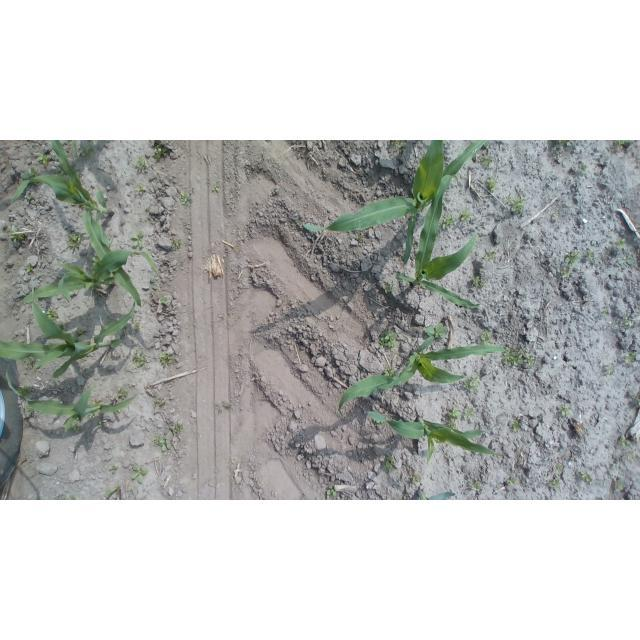Maize: (10, 140, 143, 308), (290, 140, 490, 232), (339, 335, 508, 418), (0, 285, 136, 380), (396, 173, 480, 309), (1, 364, 136, 437), (21, 249, 157, 305), (366, 411, 504, 466), (417, 487, 457, 500), (103, 486, 123, 500)
Weeds: (503, 348, 536, 368), (152, 431, 172, 453), (424, 324, 447, 341), (504, 196, 527, 213), (378, 331, 400, 348), (447, 406, 462, 430), (131, 464, 149, 484), (464, 374, 481, 393), (8, 227, 25, 245), (132, 349, 148, 368), (67, 232, 84, 249), (79, 144, 97, 160), (565, 250, 582, 266), (129, 229, 144, 247), (65, 418, 82, 433), (441, 213, 456, 229), (20, 166, 38, 179), (17, 385, 32, 400), (383, 456, 397, 472), (161, 352, 176, 366), (464, 404, 477, 420), (152, 145, 166, 159), (487, 179, 501, 193), (44, 308, 58, 321), (580, 471, 593, 485), (481, 331, 494, 345), (472, 275, 487, 287), (326, 484, 337, 500), (180, 191, 192, 205), (136, 155, 148, 169), (38, 153, 50, 167), (460, 209, 472, 222), (481, 156, 493, 169), (172, 423, 183, 437), (73, 327, 87, 338), (149, 275, 159, 290), (383, 366, 395, 378), (555, 140, 573, 148), (622, 316, 634, 328), (118, 387, 128, 401), (216, 405, 233, 413), (618, 257, 635, 265), (169, 238, 181, 249), (624, 352, 636, 363), (561, 267, 572, 279), (613, 238, 625, 249), (484, 251, 497, 261), (616, 140, 632, 148), (561, 405, 572, 416), (604, 364, 615, 375), (471, 480, 481, 492), (616, 480, 628, 490), (512, 420, 521, 433), (386, 280, 395, 293), (392, 141, 405, 150), (108, 463, 118, 474), (154, 398, 165, 408), (59, 495, 81, 500), (56, 320, 68, 329), (551, 479, 561, 489), (136, 185, 145, 196), (106, 315, 115, 325), (578, 164, 588, 173), (23, 357, 35, 364), (90, 256, 99, 265), (133, 322, 141, 332), (25, 263, 33, 273), (374, 419, 385, 426), (160, 297, 169, 305), (52, 170, 64, 176), (508, 476, 517, 484), (618, 437, 627, 445), (586, 251, 594, 260), (96, 420, 104, 428), (412, 474, 420, 482), (555, 465, 563, 473), (356, 232, 364, 240), (25, 406, 35, 412), (88, 413, 96, 420), (213, 184, 220, 192), (27, 193, 35, 200), (602, 310, 611, 316), (635, 397, 640, 407), (144, 205, 151, 212), (627, 453, 635, 459), (553, 210, 559, 217), (497, 140, 504, 142)
